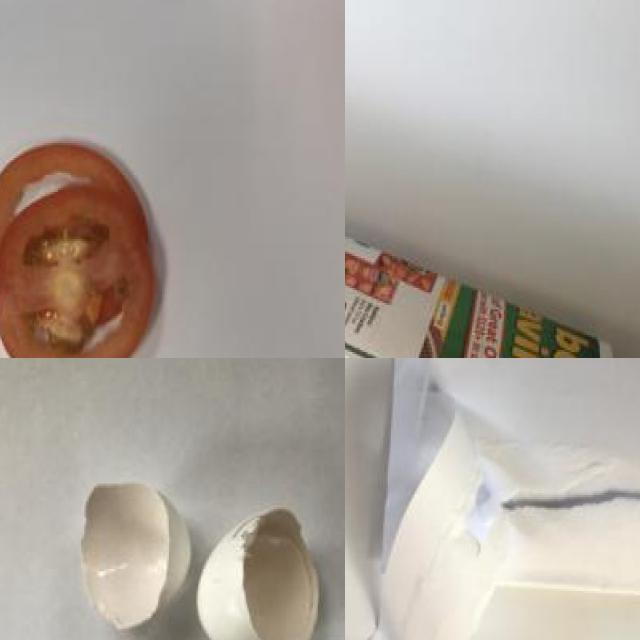compost: (77, 478, 345, 640), (0, 129, 179, 358)
paper: (389, 358, 640, 640), (345, 136, 636, 358)
